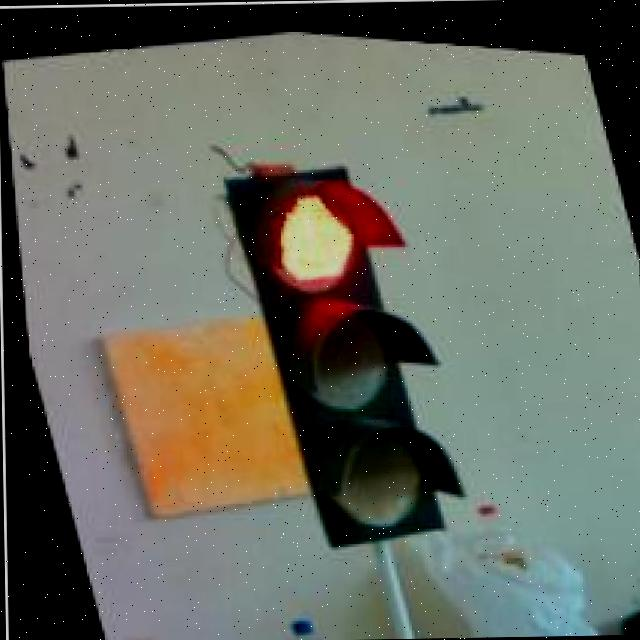red_light: (228, 143, 472, 550)
